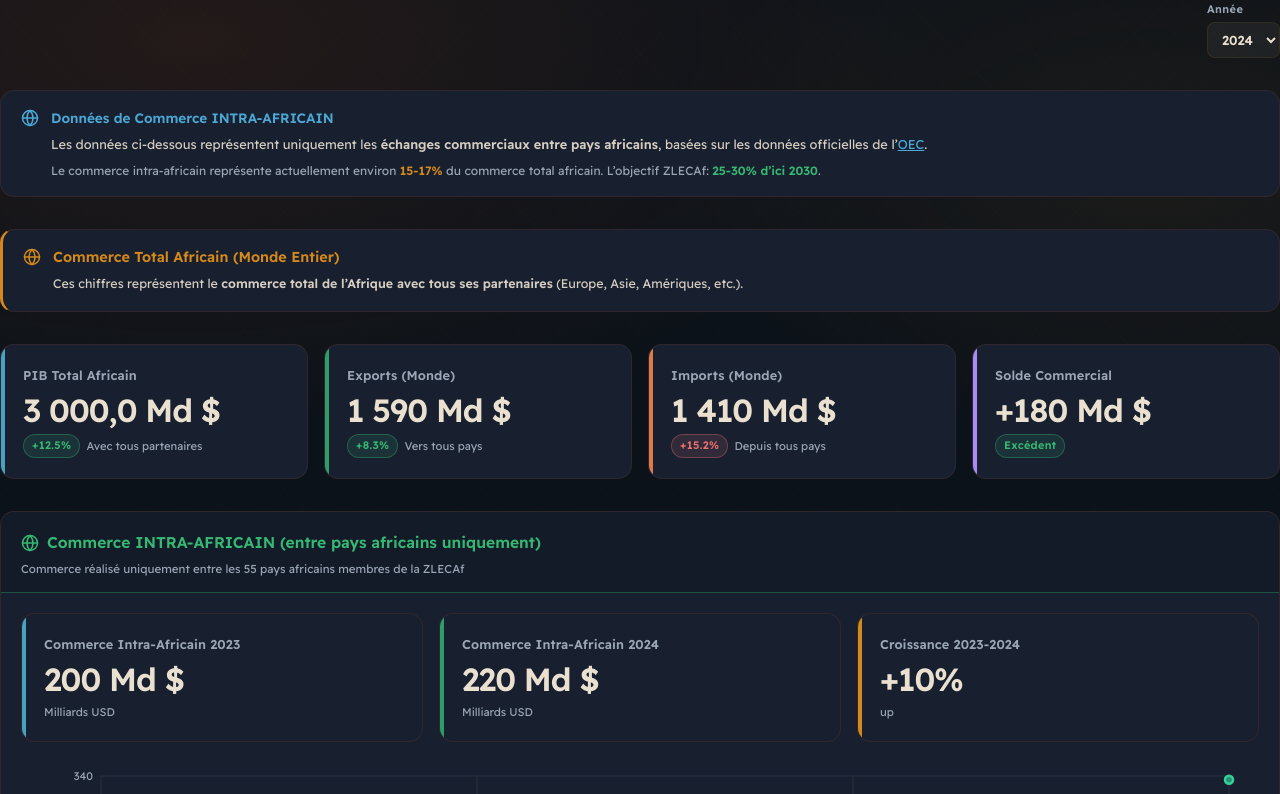
Test case: TradeComparison — sélecteur d’année (non-régression) › bascule vers les données historiques quand on change l’année
Select "2023" in the dropdown. click: [1244, 40]
box: [1207,22,1279,58]
(page scrolled)
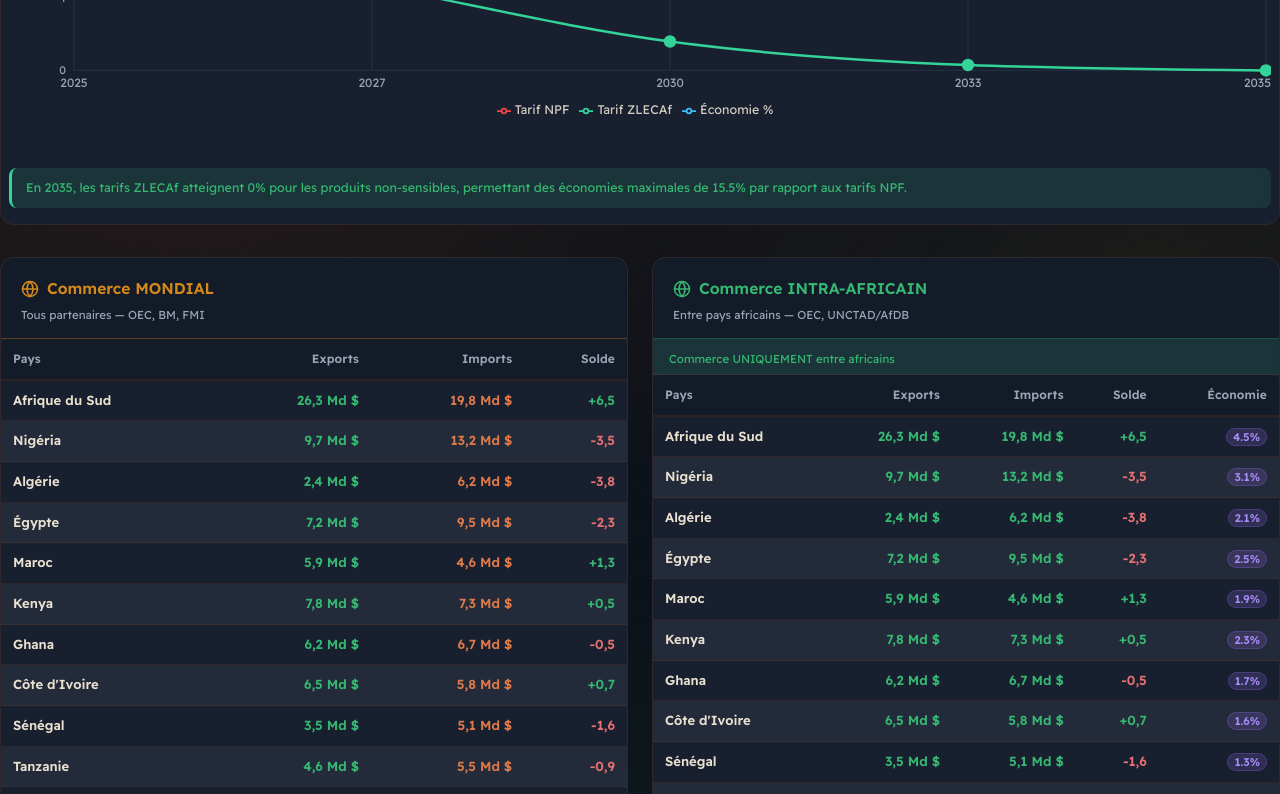
Check: the text "Afrique du Sud" below "Tous partenaires — OEC, BM, FMI" is shown, box [13,392,111,408]
